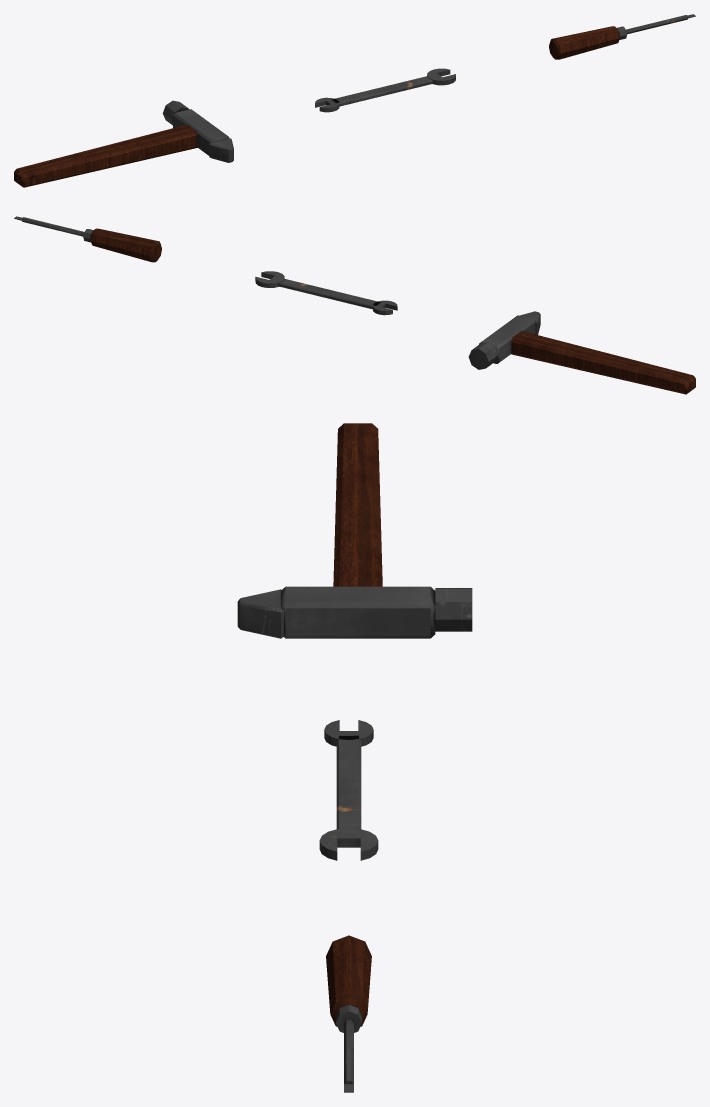
Rendered from Tools_Low.fbx.
3 views of the same model, one above another, from view 1: azimuth 30°, elevation 25°; view 2: azimuth 150°, elevation 25°; view 3: azimuth 270°, elevation 25° (orthographic). The views are drawn at different scales.
Parts seen in each view (by area): view 1: Hammer_Low, Screwdriver_Low, Wrench_Low; view 2: Hammer_Low, Screwdriver_Low, Wrench_Low; view 3: Hammer_Low, Wrench_Low, Screwdriver_Low.
Boxes of the visible parts, x1,y1,x2,y2 form: Hammer_Low: [14, 100, 233, 187]; Screwdriver_Low: [549, 14, 695, 59]; Wrench_Low: [315, 68, 455, 112]; Hammer_Low: [468, 311, 695, 394]; Screwdriver_Low: [14, 216, 161, 262]; Wrench_Low: [255, 271, 397, 315]; Hammer_Low: [237, 423, 472, 638]; Wrench_Low: [319, 720, 378, 860]; Screwdriver_Low: [326, 935, 371, 1092].
Size of the model in its own units: 101 by 3.21 by 15.2.
